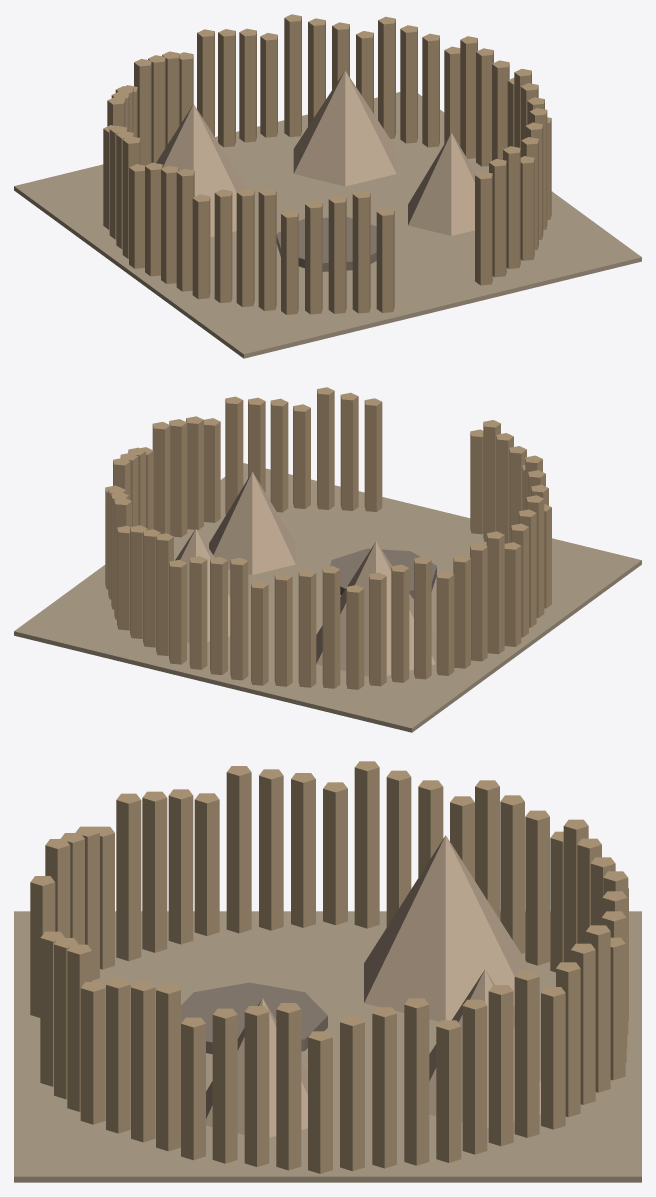
The picture shows the model from 3 angles, top to bottom: view 1: azimuth 30°, elevation 25°; view 2: azimuth 150°, elevation 25°; view 3: azimuth 270°, elevation 25°; orthographic projection. The views are drawn at different scales.
Visible parts, largest first — view 1: body; view 2: body; view 3: body.
Boxes of the visible parts, x1,y1,x2,y2 form: body: (14,14,641,358); body: (14,387,641,732); body: (14,761,641,1182).
Bounding box in the file's own units: 9.6 × 2.76 × 9.6.
